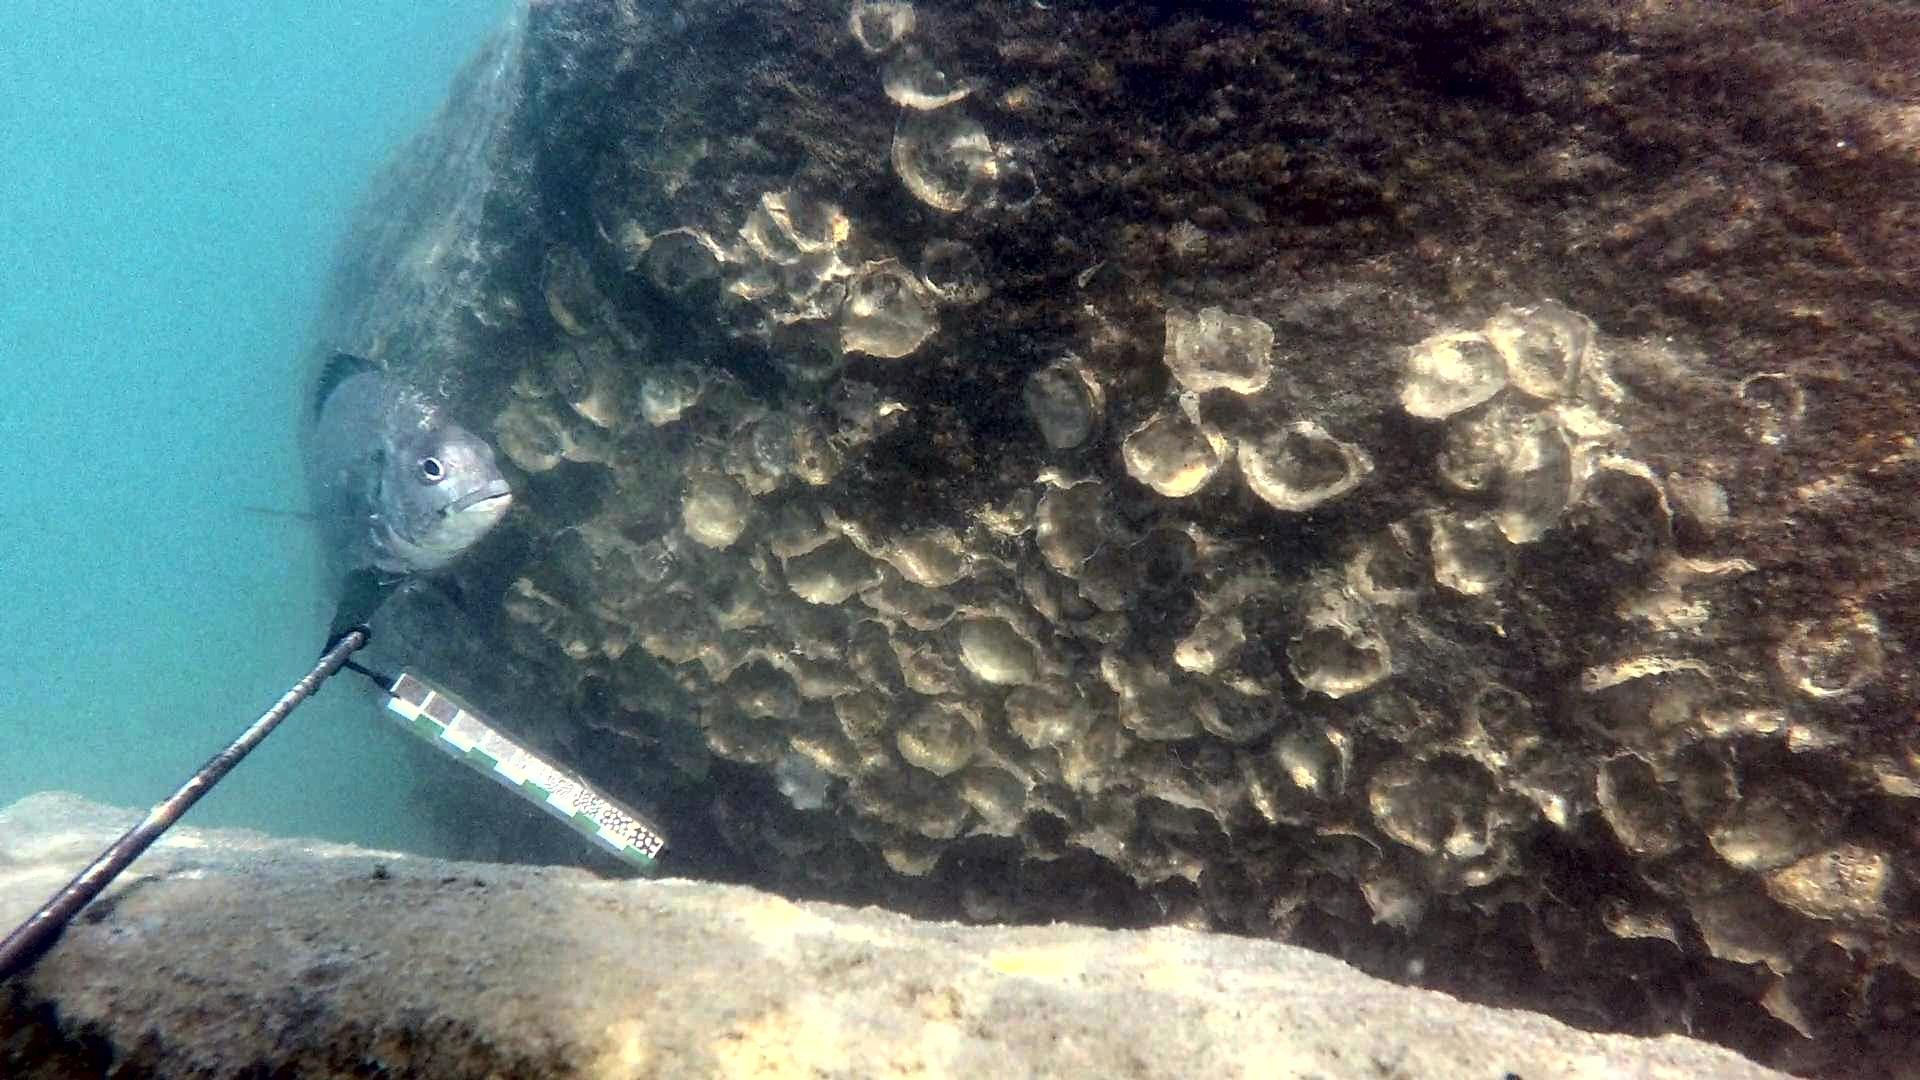acanthopagrus palmaris: (247, 339, 521, 657)
